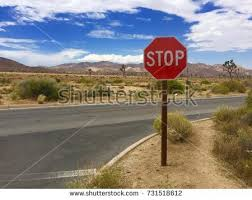Stop: (144, 36, 188, 88)
